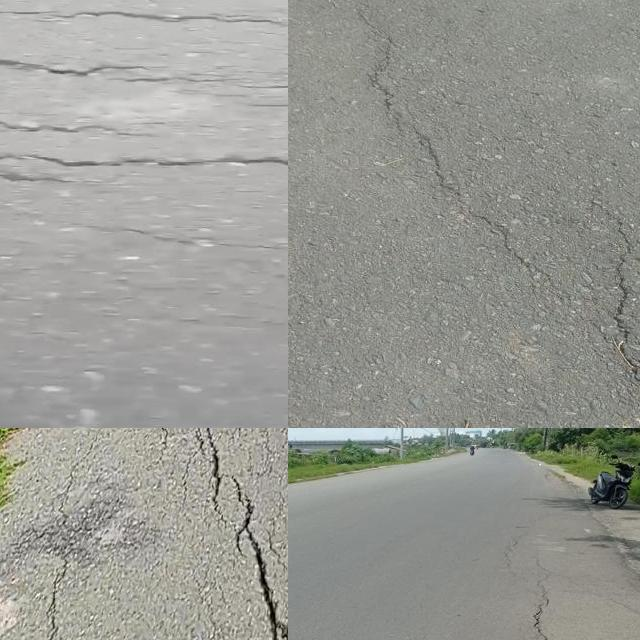Melintang: (0, 0, 288, 45), (0, 139, 288, 182), (0, 111, 141, 137)
Memanjang: (226, 483, 288, 640), (602, 207, 640, 411)
